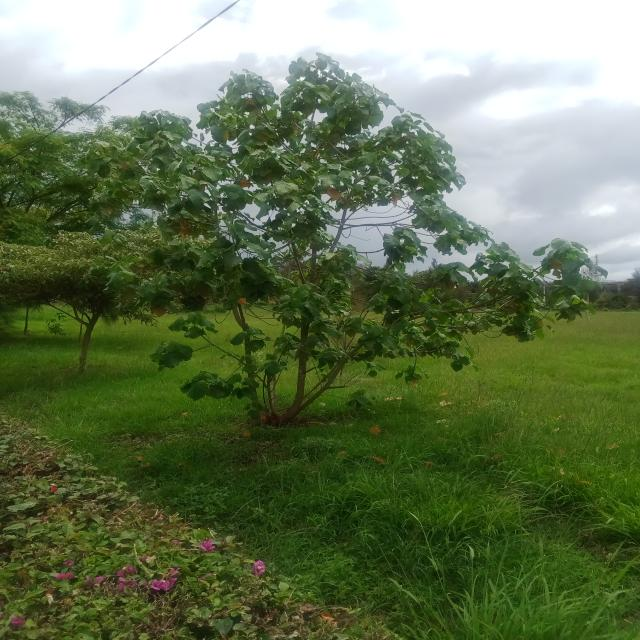Croton machrostychus: (90, 56, 610, 431)
